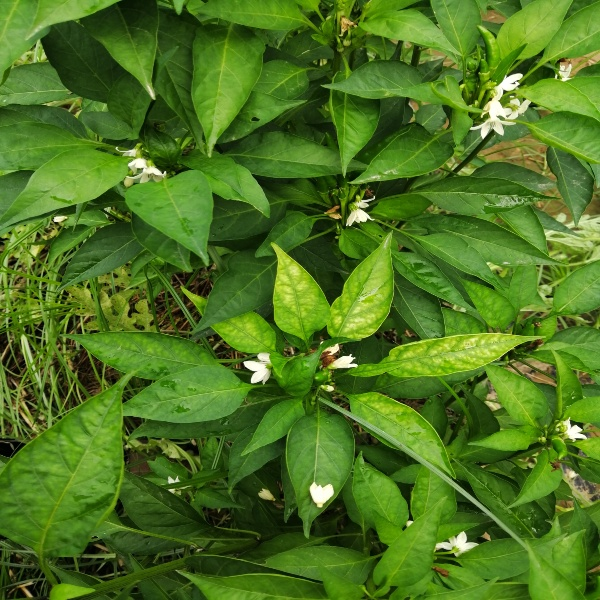Improper medication: (352, 392, 453, 475), (387, 329, 526, 375), (265, 244, 331, 335), (186, 287, 278, 352), (329, 253, 391, 338), (91, 462, 129, 530)
